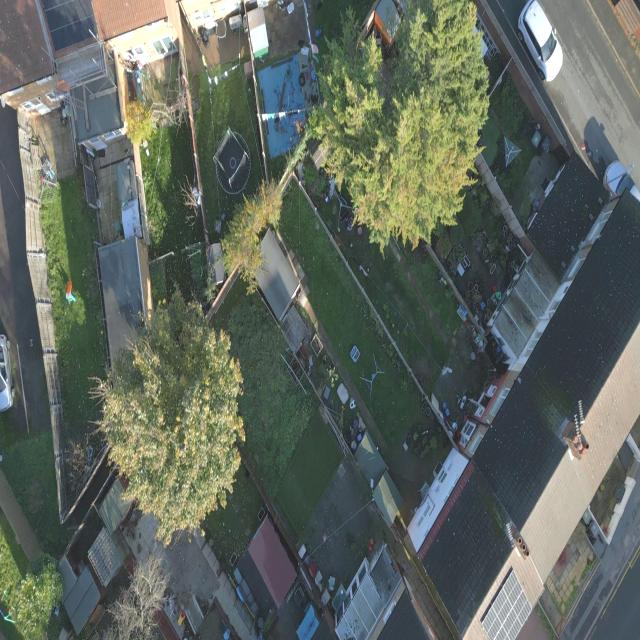Car: (518, 0, 564, 82), (602, 160, 640, 204), (0, 333, 15, 413)
